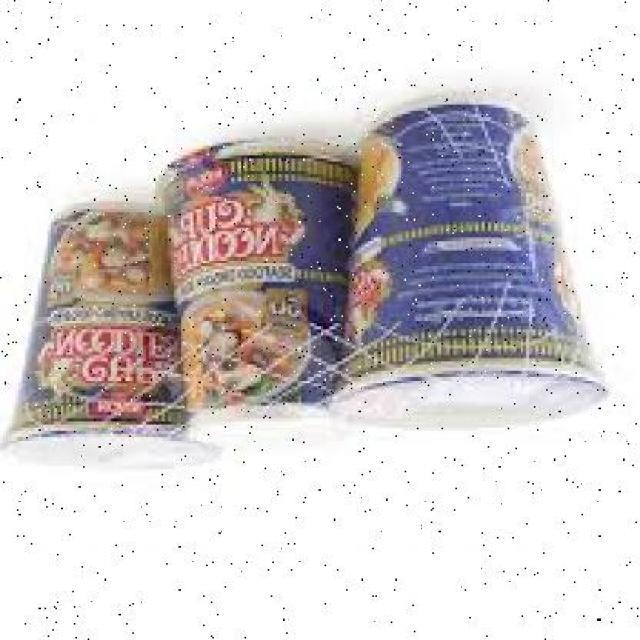Miscellaneous: (328, 88, 594, 438), (177, 136, 386, 458), (17, 195, 222, 483)
